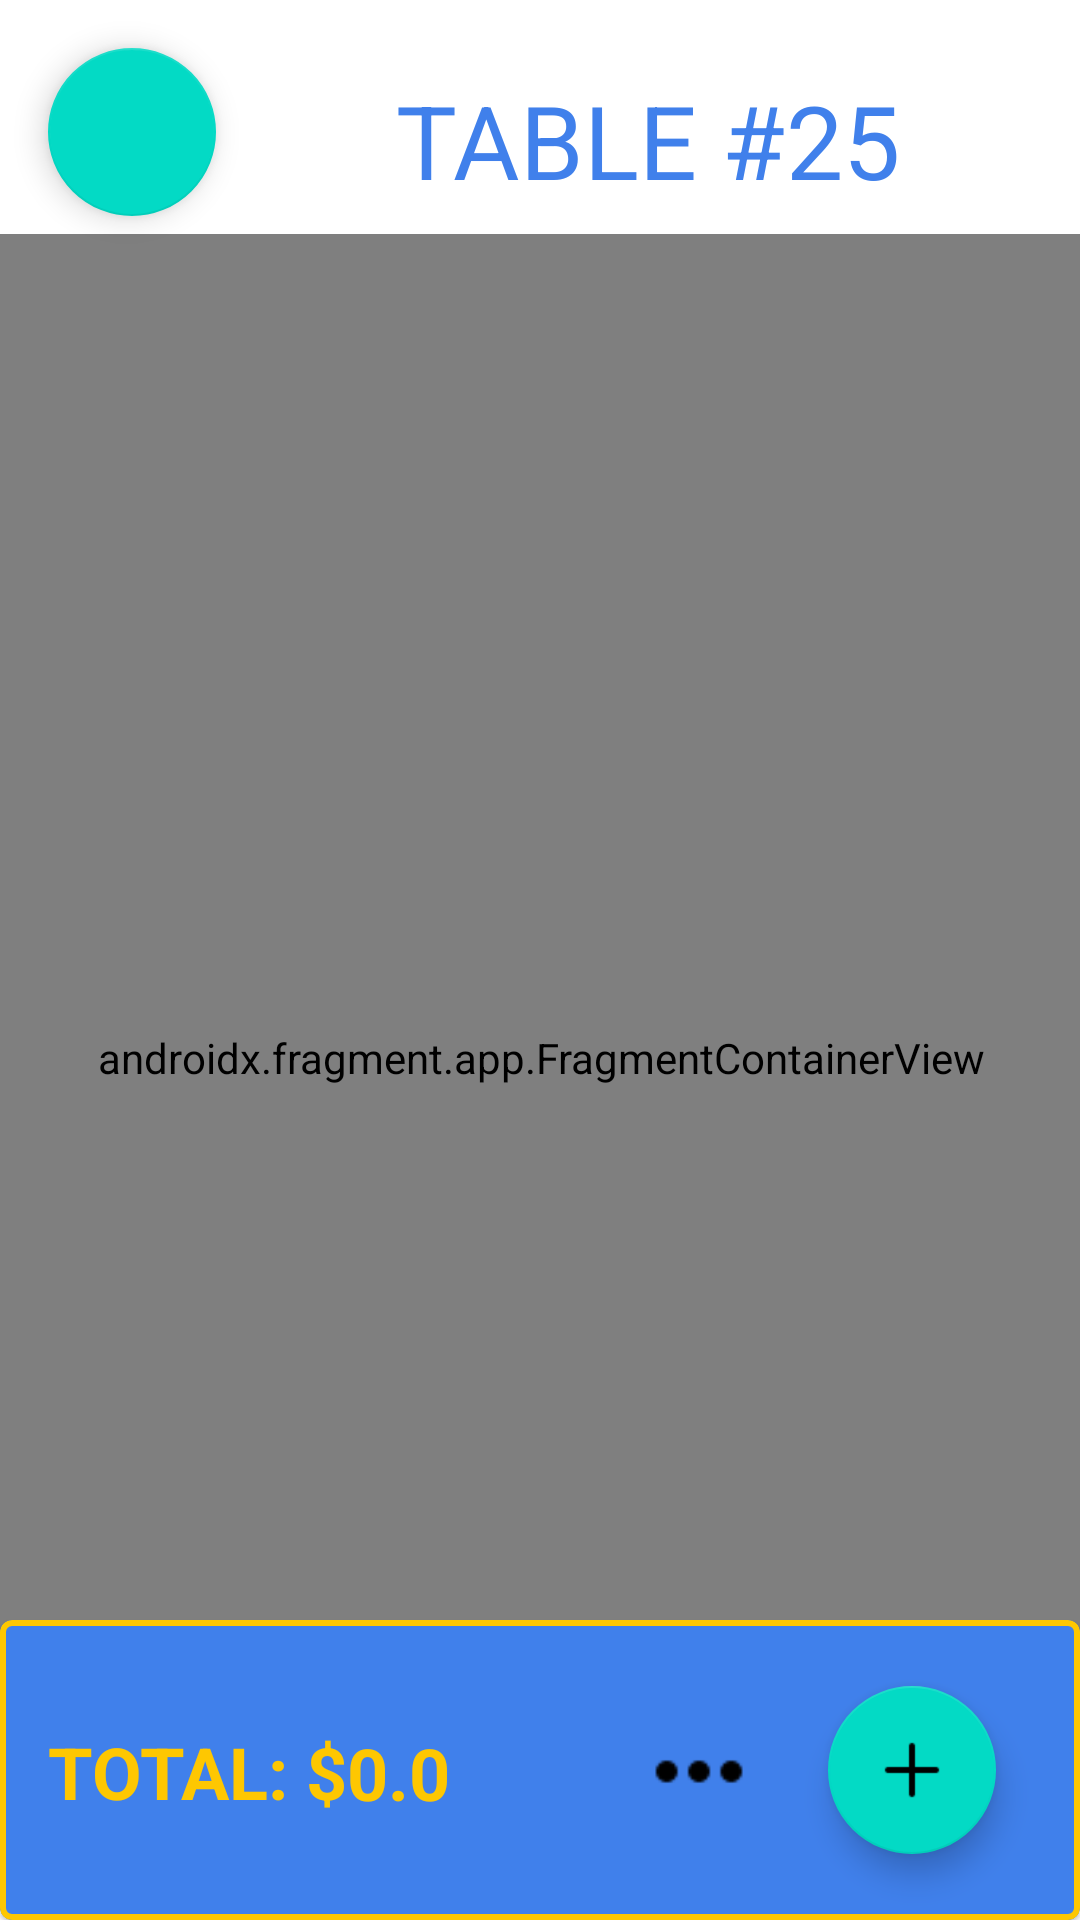

Where icons sit on this 1080px x 1920px app screen, as (x1, y1, x2, y2):
Create Command: (828, 1686, 996, 1854)
more horizontal: (655, 1760, 743, 1783)
